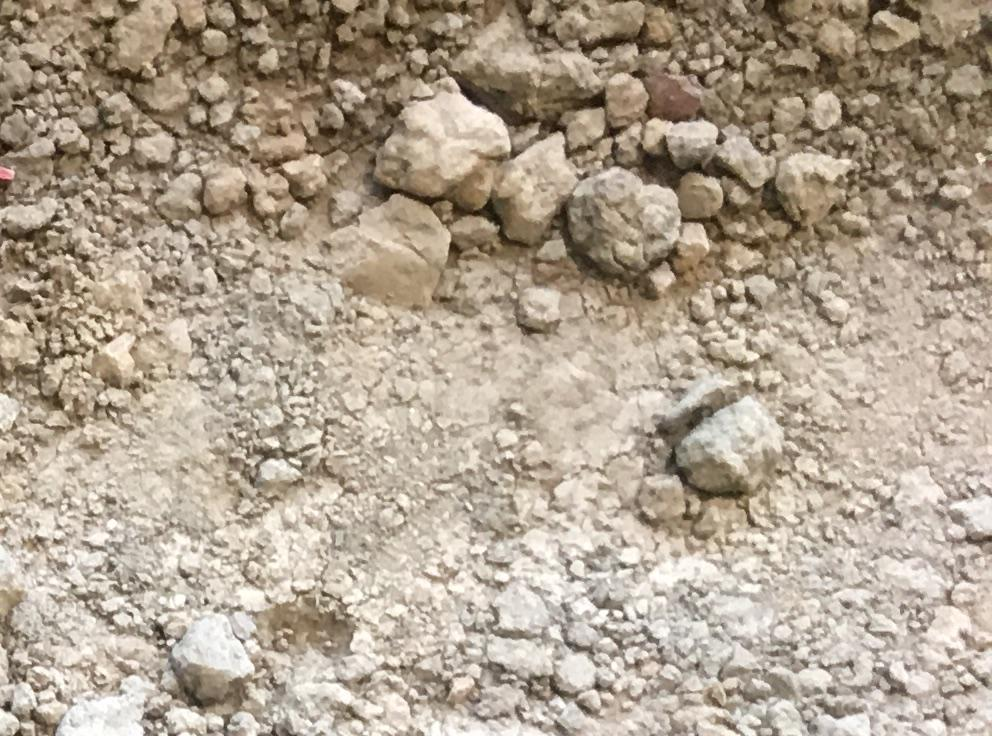block: (372, 85, 503, 209), (665, 379, 784, 499), (566, 167, 680, 277), (495, 128, 574, 240), (164, 613, 256, 706), (776, 144, 850, 229)
